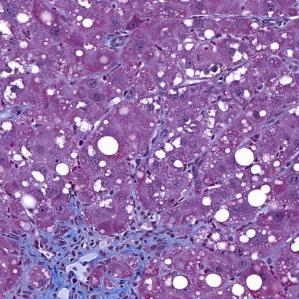fibrosis: (21, 222, 149, 273)
